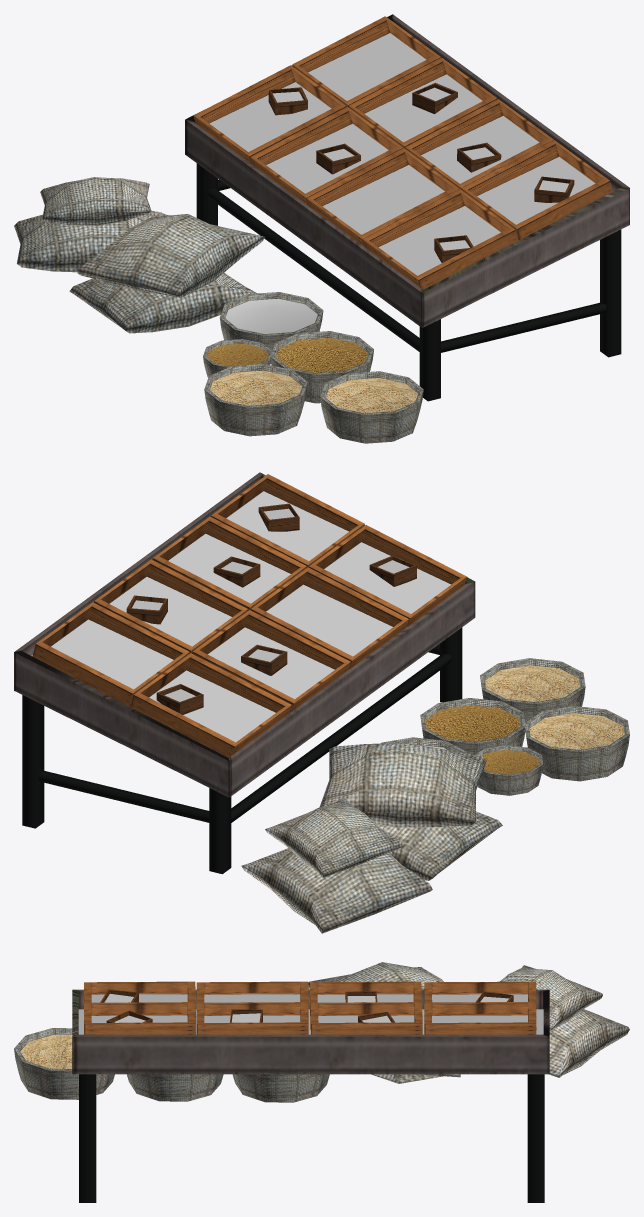
The model's file is grain.FBX.
The picture shows the model from 3 angles, top to bottom: view 1: azimuth 30°, elevation 25°; view 2: azimuth 150°, elevation 25°; view 3: azimuth 270°, elevation 25°; orthographic projection. The views are drawn at different scales.
Parts seen in each view (by area): view 1: polySurface25, ob3, pCube020, pCube018, pCube019, pCube016, pCube4, pCube009, ob9, ob8, pCube007, pCube017 (+12 smaller); view 2: polySurface25, ob3, pCube016, ob1, pCube4, pCube018, pCube009, pCube020, pCube017, pCube007, ob8, pCube019 (+11 smaller); view 3: polySurface25, ob9, pCube016, pCube007, pCube019, pCube017, ob1, pCube018, ob2, ob5, ob7, pCube4 (+8 smaller).
Part boxes in pixels (x1=…): polySurface25: x1=185, y1=14, x2=629, y2=401; ob3: x1=77, y1=213, x2=264, y2=297; pCube020: x1=362, y1=189, x2=518, y2=289; pCube018: x1=306, y1=148, x2=459, y2=246; pCube019: x1=461, y1=140, x2=612, y2=240; pCube016: x1=292, y1=16, x2=441, y2=107; pCube4: x1=193, y1=65, x2=346, y2=163; pCube009: x1=250, y1=107, x2=403, y2=205; ob9: x1=320, y1=371, x2=423, y2=443; ob8: x1=204, y1=364, x2=307, y2=436; pCube007: x1=348, y1=57, x2=497, y2=148; pCube017: x1=405, y1=99, x2=553, y2=189; polySurface25: x1=14, y1=472, x2=475, y2=874; ob3: x1=319, y1=743, x2=486, y2=827; pCube016: x1=32, y1=602, x2=189, y2=706; ob1: x1=241, y1=848, x2=432, y2=933; pCube4: x1=130, y1=653, x2=291, y2=757; pCube018: x1=250, y1=567, x2=408, y2=669; pCube009: x1=192, y1=610, x2=350, y2=712; pCube020: x1=309, y1=525, x2=466, y2=626; pCube017: x1=152, y1=516, x2=306, y2=610; pCube007: x1=94, y1=559, x2=247, y2=653; ob8: x1=525, y1=706, x2=629, y2=781; pCube019: x1=210, y1=474, x2=364, y2=567; polySurface25: x1=72, y1=989, x2=549, y2=1202; ob9: x1=14, y1=1028, x2=114, y2=1099; pCube016: x1=424, y1=1003, x2=536, y2=1034; pCube007: x1=310, y1=1003, x2=422, y2=1034; pCube019: x1=83, y1=1003, x2=195, y2=1034; pCube017: x1=196, y1=1003, x2=308, y2=1034; ob1: x1=549, y1=1009, x2=629, y2=1077; pCube018: x1=196, y1=981, x2=308, y2=1020; ob2: x1=500, y1=965, x2=602, y2=1029; ob5: x1=232, y1=1074, x2=329, y2=1102; ob7: x1=127, y1=1074, x2=223, y2=1101; pCube4: x1=424, y1=981, x2=536, y2=1029.
Bounding box in the file's own units: 26.81 × 12.56 × 36.41.
